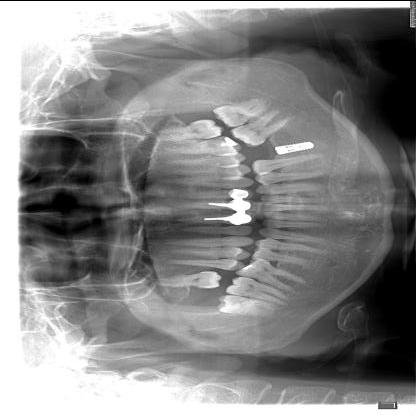ITI: (269, 136, 317, 158)
